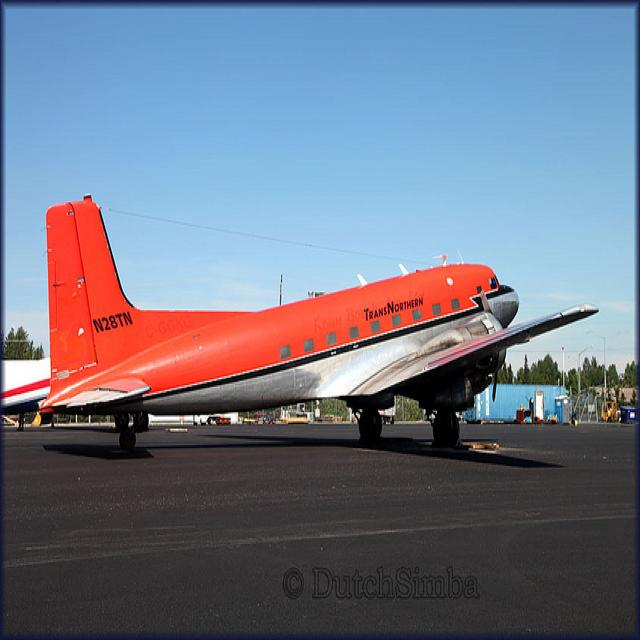airplane: (36, 190, 602, 453)
